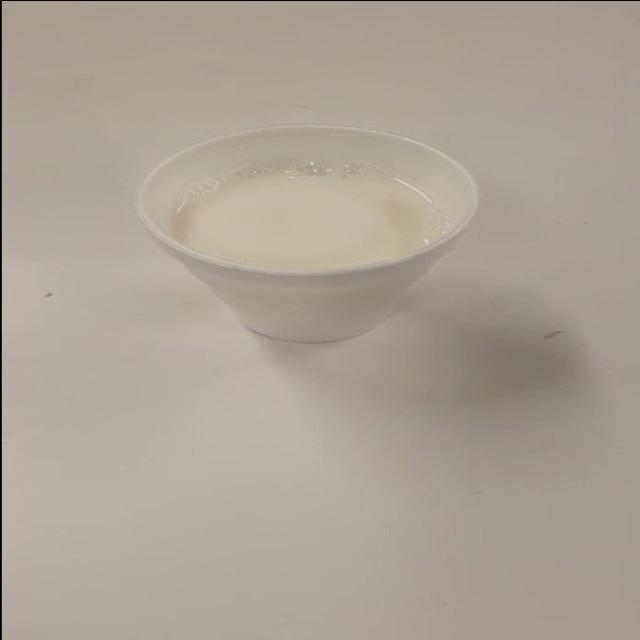Milk: (110, 100, 544, 373)
